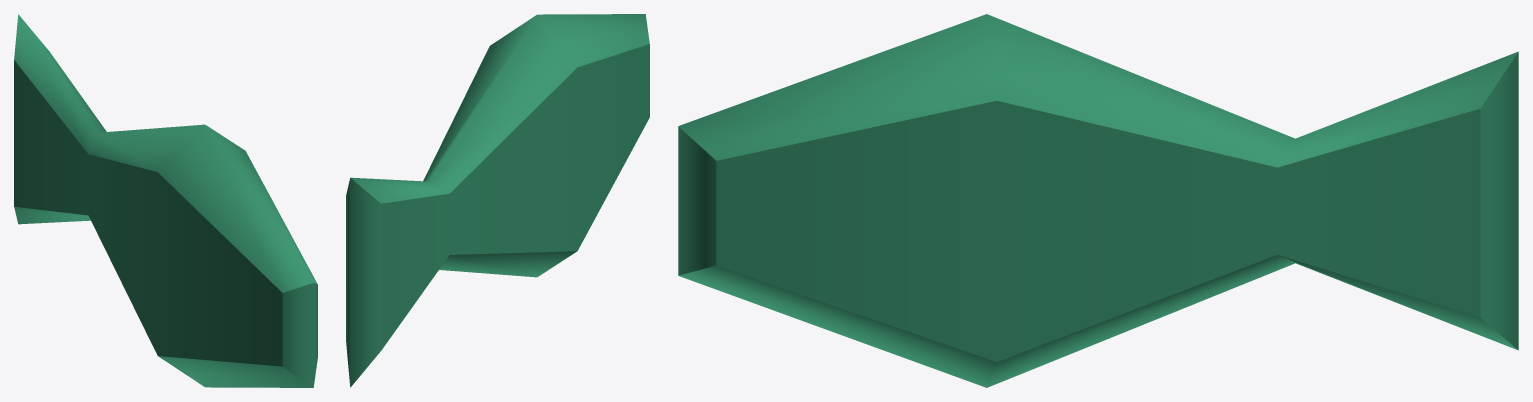
Rendered from Fish.fbx.
3 views of the same model, side by side, from view 1: azimuth 30°, elevation 25°; view 2: azimuth 150°, elevation 25°; view 3: azimuth 270°, elevation 25° (orthographic). The views are drawn at different scales.
Parts seen in each view (by area): view 1: Fish; view 2: Fish; view 3: Fish.
Boxes of the visible parts, x1=… form: Fish: x1=14, y1=14, x2=317, y2=387; Fish: x1=346, y1=14, x2=649, y2=387; Fish: x1=678, y1=14, x2=1518, y2=387.
Bounding box in the file's own units: 0.0675 × 0.1931 × 0.3933.
